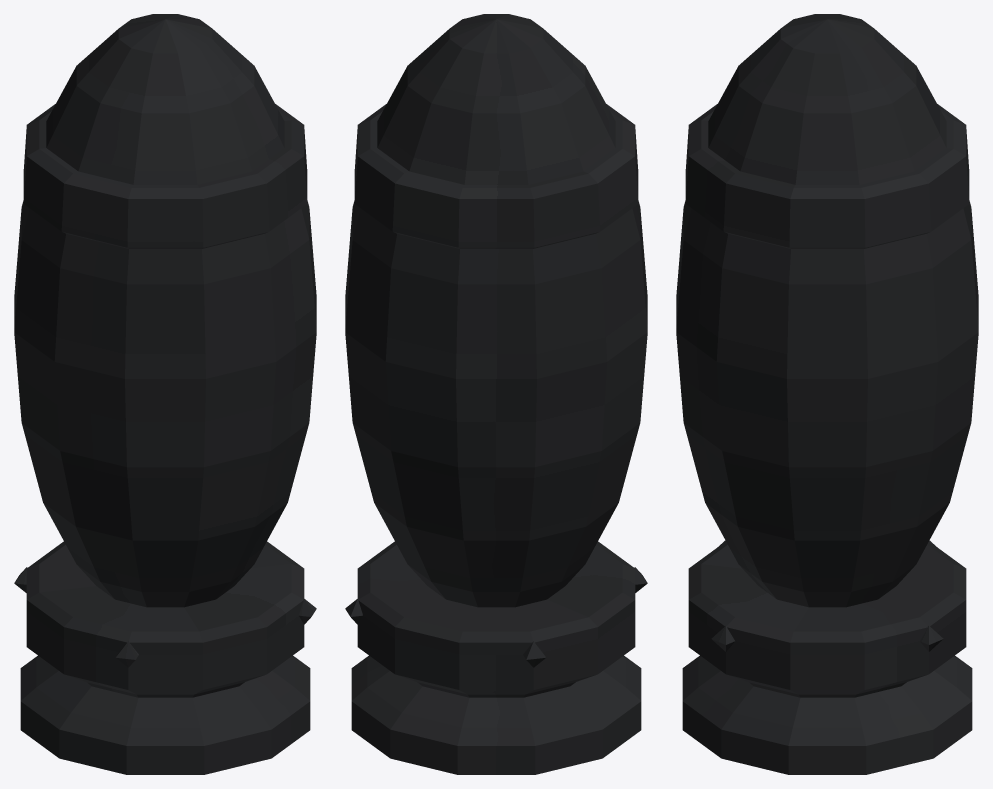
The model's file is decolight_lage104globe.obj.
3 renders of one model, left to right at view 1: azimuth 30°, elevation 25°; view 2: azimuth 150°, elevation 25°; view 3: azimuth 270°, elevation 25°, orthographic.
Visible parts, largest first — view 1: decolight_lage104globe; view 2: decolight_lage104globe; view 3: decolight_lage104globe.
Part boxes in pixels (box(x1,y1,x2,y2)): decolight_lage104globe: box(14, 14, 316, 774); decolight_lage104globe: box(345, 14, 647, 774); decolight_lage104globe: box(676, 14, 978, 774).
Bounding box in the file's own units: 0.5796 × 1.47 × 0.5796.
